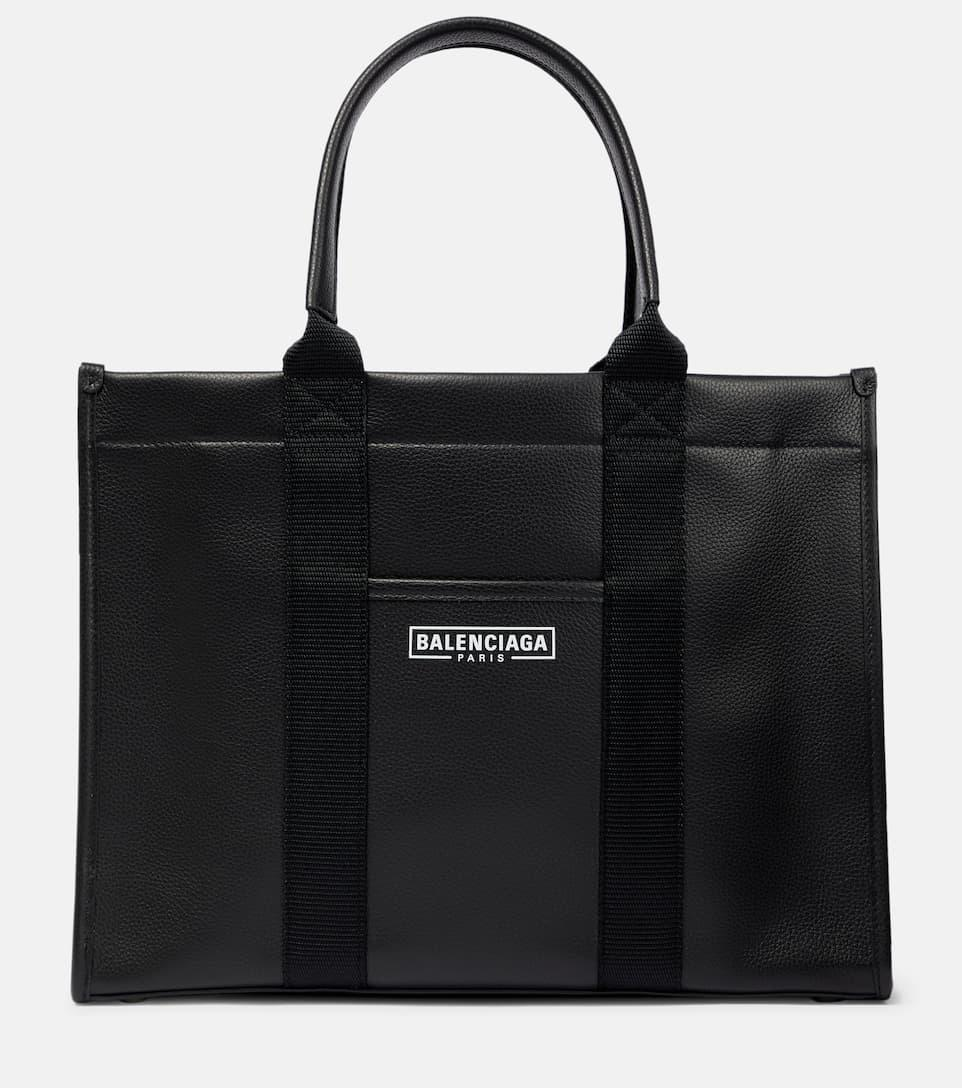BALENCIAGA: (417, 633, 548, 650)
